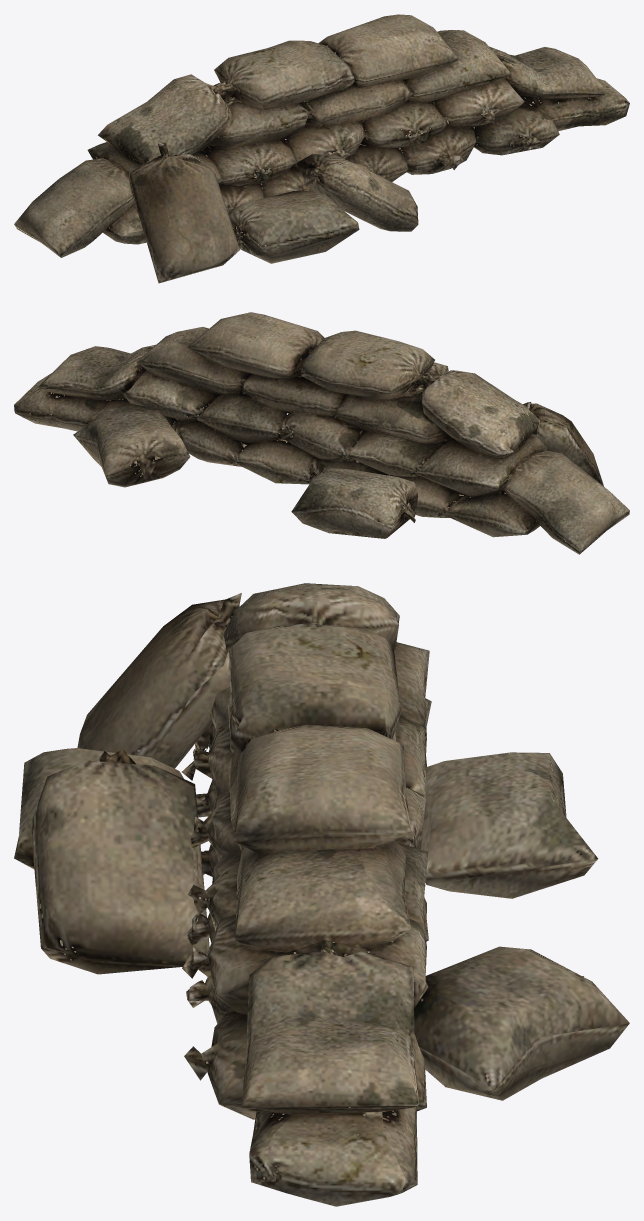
The model's file is sandbags_02.obj.
3 views of the same model, one above another, from view 1: azimuth 30°, elevation 25°; view 2: azimuth 150°, elevation 25°; view 3: azimuth 270°, elevation 25° (orthographic). The views are drawn at different scales.
Bounding box in the file's own units: 8.66 × 2.07 × 4.31.
Materials: 1 (1 with a texture image).
